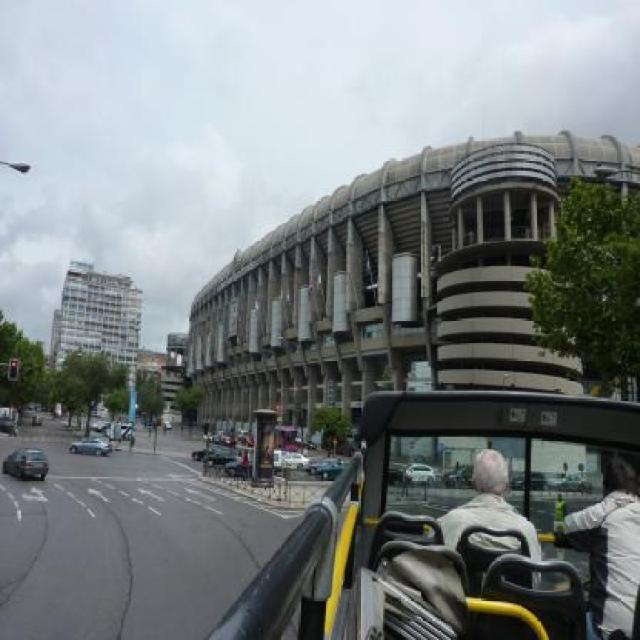Person: (428, 442, 547, 593), (563, 452, 639, 638), (548, 488, 567, 558), (400, 465, 411, 500), (260, 424, 269, 458), (241, 448, 247, 481), (245, 448, 250, 478), (303, 446, 309, 457), (114, 424, 118, 439), (162, 427, 168, 435), (179, 427, 184, 435), (233, 437, 236, 449), (77, 418, 80, 429), (12, 424, 15, 433), (228, 436, 230, 449), (56, 412, 59, 419), (16, 428, 18, 437), (457, 460, 458, 468), (231, 427, 232, 433), (198, 423, 199, 428)
